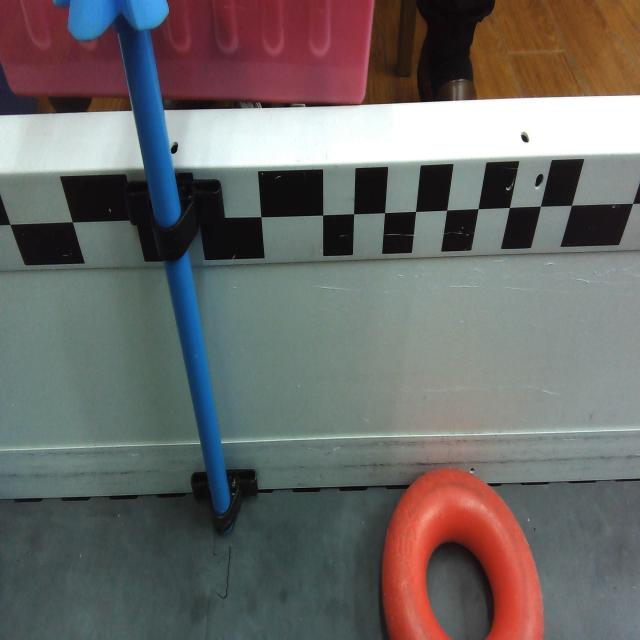Red-Ring: (382, 463, 542, 640)
zblue-Stake-Head: (54, 1, 169, 42)
